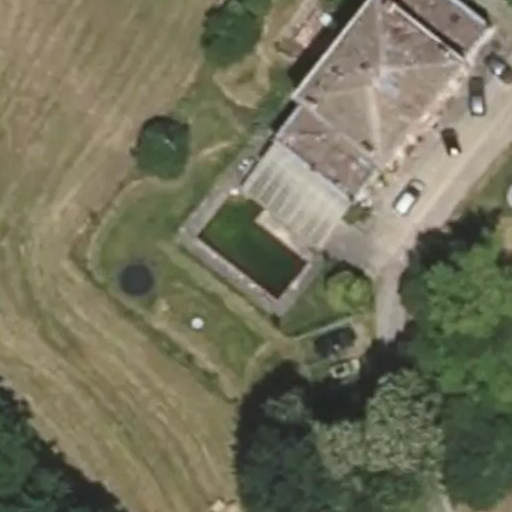pool: (202, 234, 315, 249)
